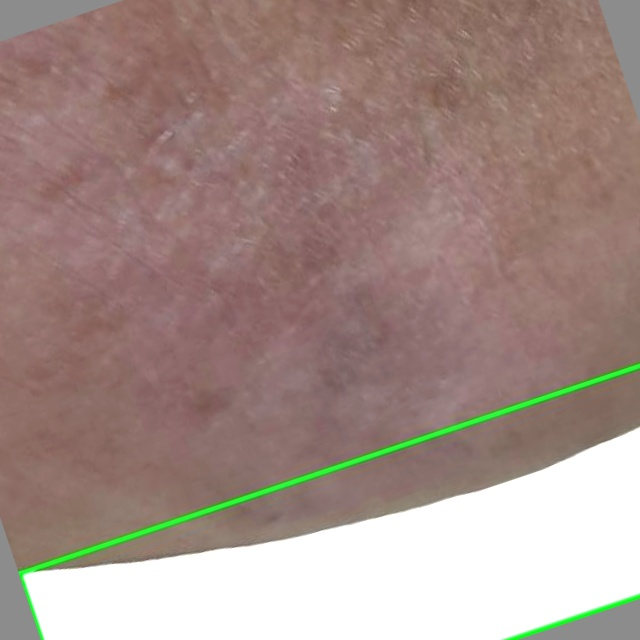Tinea Corporis: (20, 367, 639, 639)
